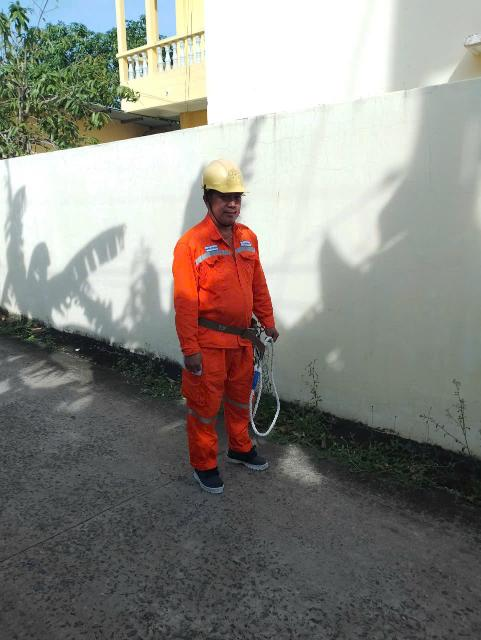harness: (194, 307, 273, 348)
helmet: (193, 151, 270, 206)
shoes: (226, 433, 272, 477), (188, 458, 232, 497)
